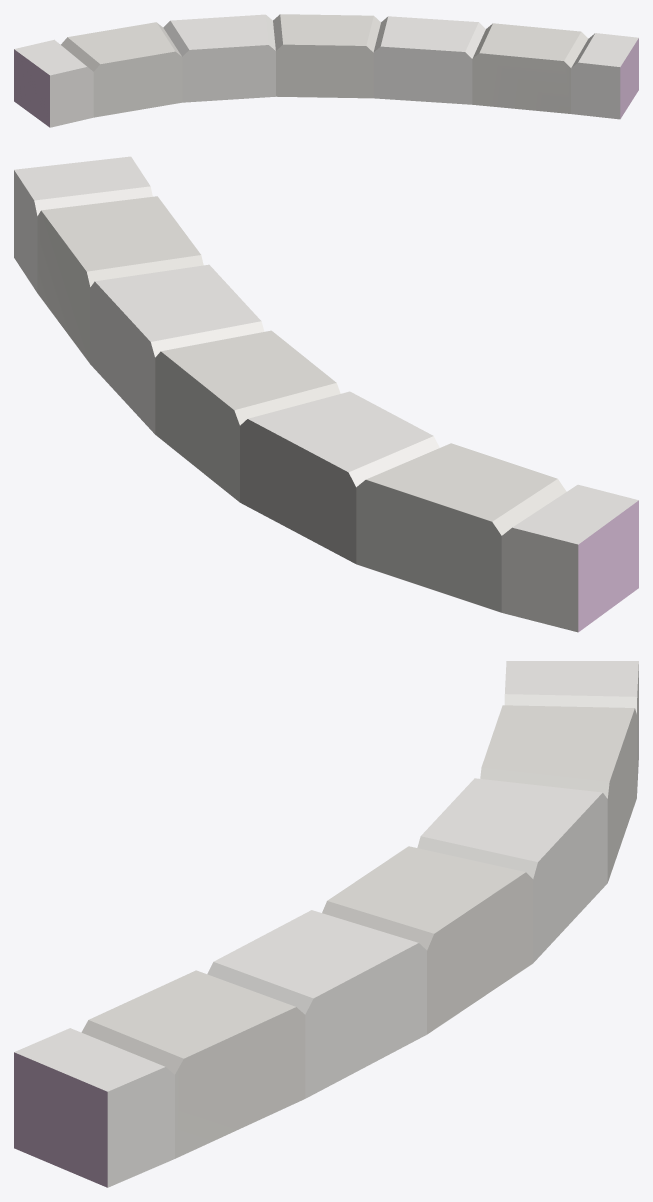
Rendered from Path_Edging_Stones_45_Degrees_Curve_Inner_3x3.glb.
3 renders of one model, top to bottom at view 1: azimuth 30°, elevation 25°; view 2: azimuth 150°, elevation 25°; view 3: azimuth 270°, elevation 25°, orthographic. The views are drawn at different scales.
Visible parts, largest first — view 1: Path_Edging_Stones_45_Degrees_Curve_Inner_3x3; view 2: Path_Edging_Stones_45_Degrees_Curve_Inner_3x3; view 3: Path_Edging_Stones_45_Degrees_Curve_Inner_3x3.
Boxes of the visible parts, x1,y1,x2,y2 form: Path_Edging_Stones_45_Degrees_Curve_Inner_3x3: (14, 14, 638, 127); Path_Edging_Stones_45_Degrees_Curve_Inner_3x3: (14, 156, 638, 632); Path_Edging_Stones_45_Degrees_Curve_Inner_3x3: (14, 661, 638, 1187).
Bounding box in the file's own units: 240 × 25 × 147.
